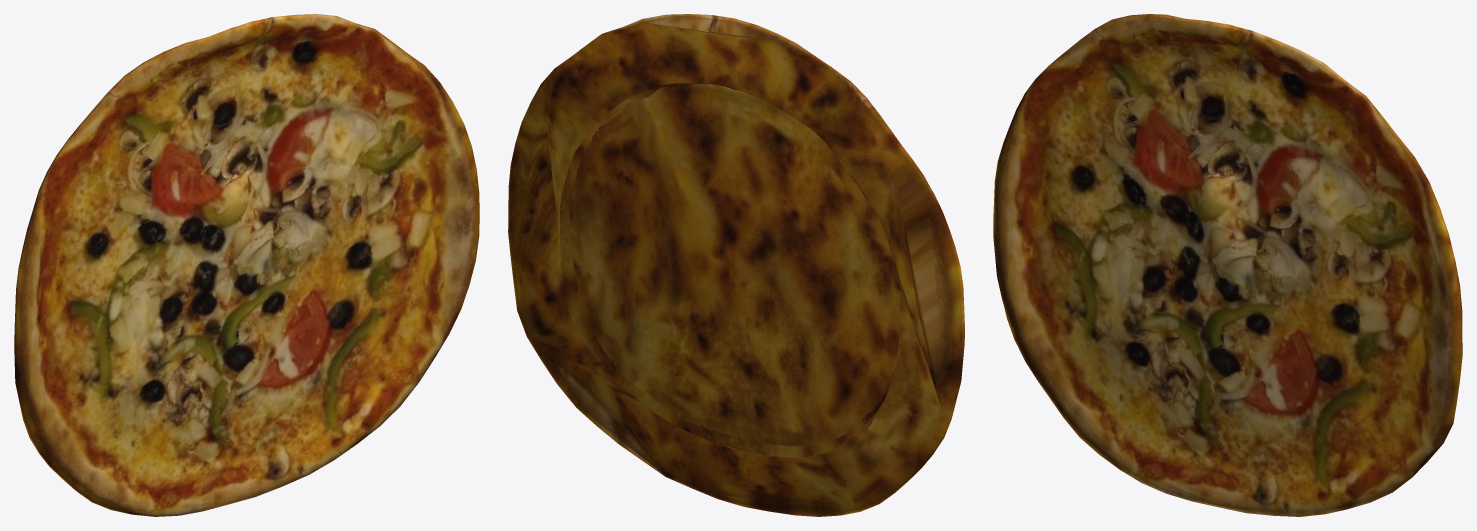
3 views of the same model, side by side, from view 1: azimuth 30°, elevation 25°; view 2: azimuth 150°, elevation 25°; view 3: azimuth 330°, elevation 25° (orthographic). The views are drawn at different scales.
Visible parts, largest first — view 1: Object_4; view 2: Object_4; view 3: Object_4.
Part boxes in pixels (x1,y1,x2,y2): Object_4: (14,14,479,516); Object_4: (508,14,964,516); Object_4: (993,14,1462,516).
Bounding box in the file's own units: 0.11 × 0.11 × 0.00654.
1 material, 1 textured.
